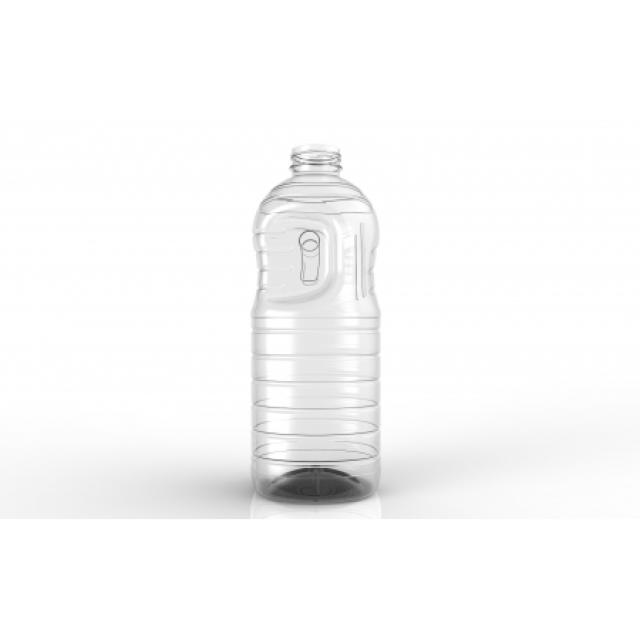bottle: (252, 146, 380, 501)
